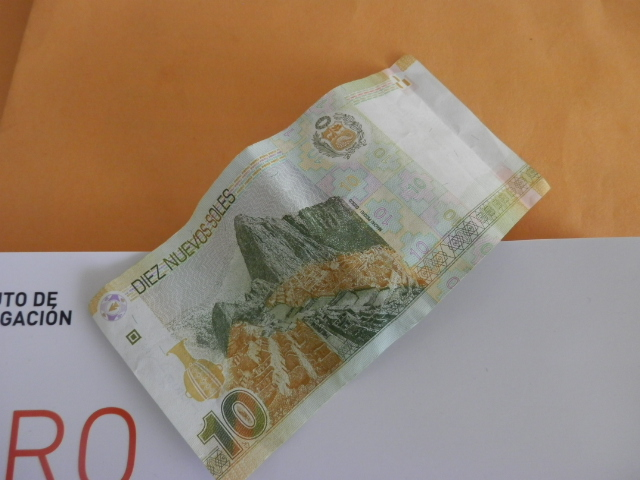B10: (93, 84, 532, 468)
